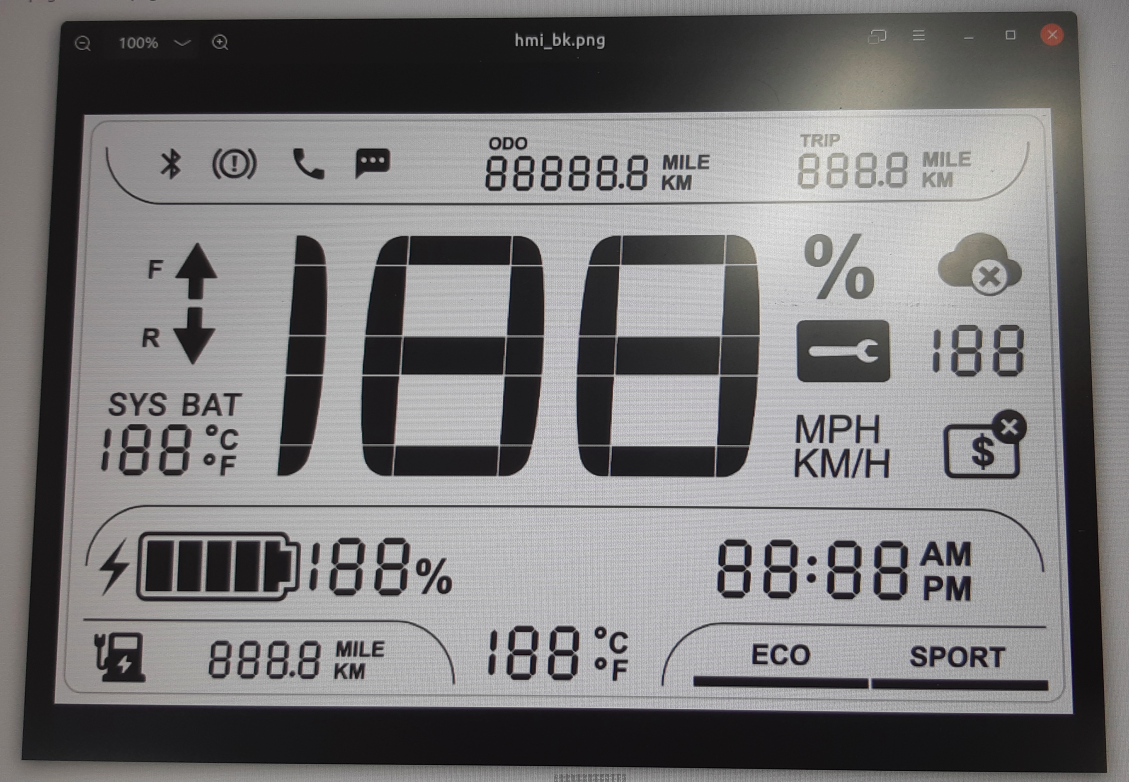bluetooth_on: (156, 144, 187, 182)
braking_on: (208, 143, 261, 182)
calling_on: (288, 144, 331, 182)
connection_lost: (934, 229, 1026, 298)
error_code: (790, 314, 895, 388)
low_battery: (90, 628, 154, 687)
sms_on: (350, 144, 395, 183)
vin_id: (940, 405, 1030, 483)
